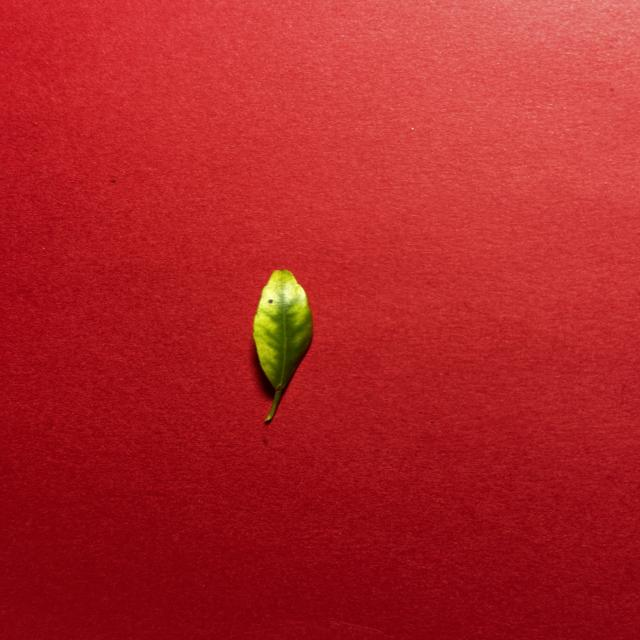greening: (253, 270, 312, 421)
